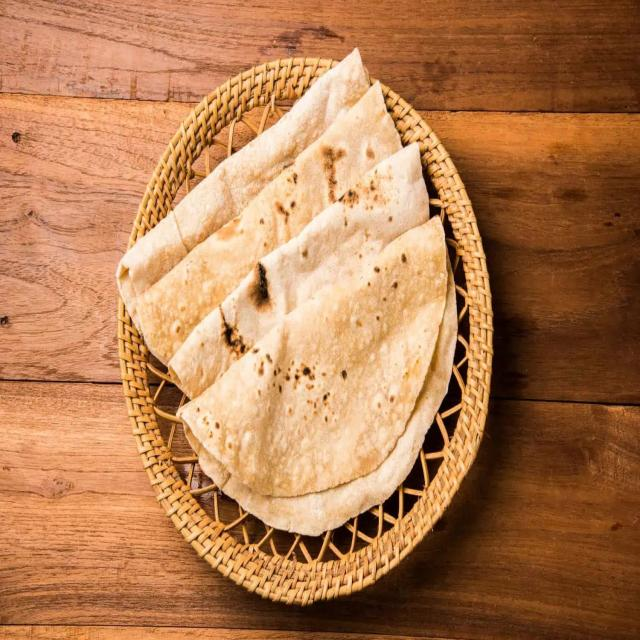ROTI: (115, 45, 459, 536)
